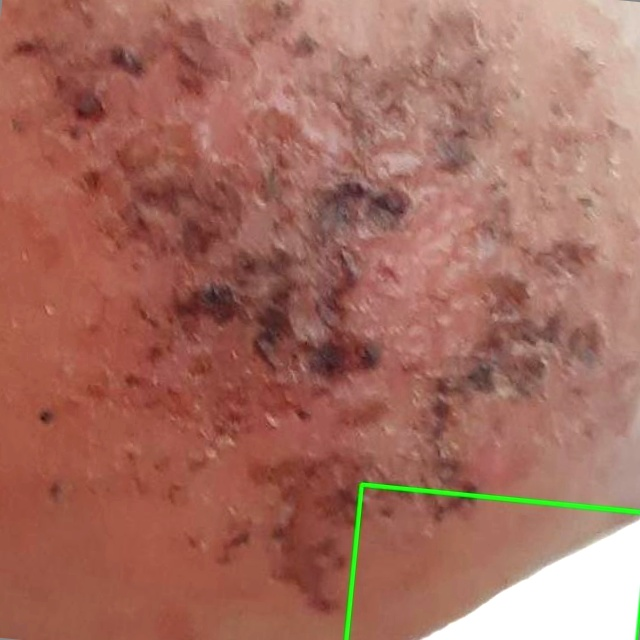Contact Dermatitis: (345, 485, 639, 639)
